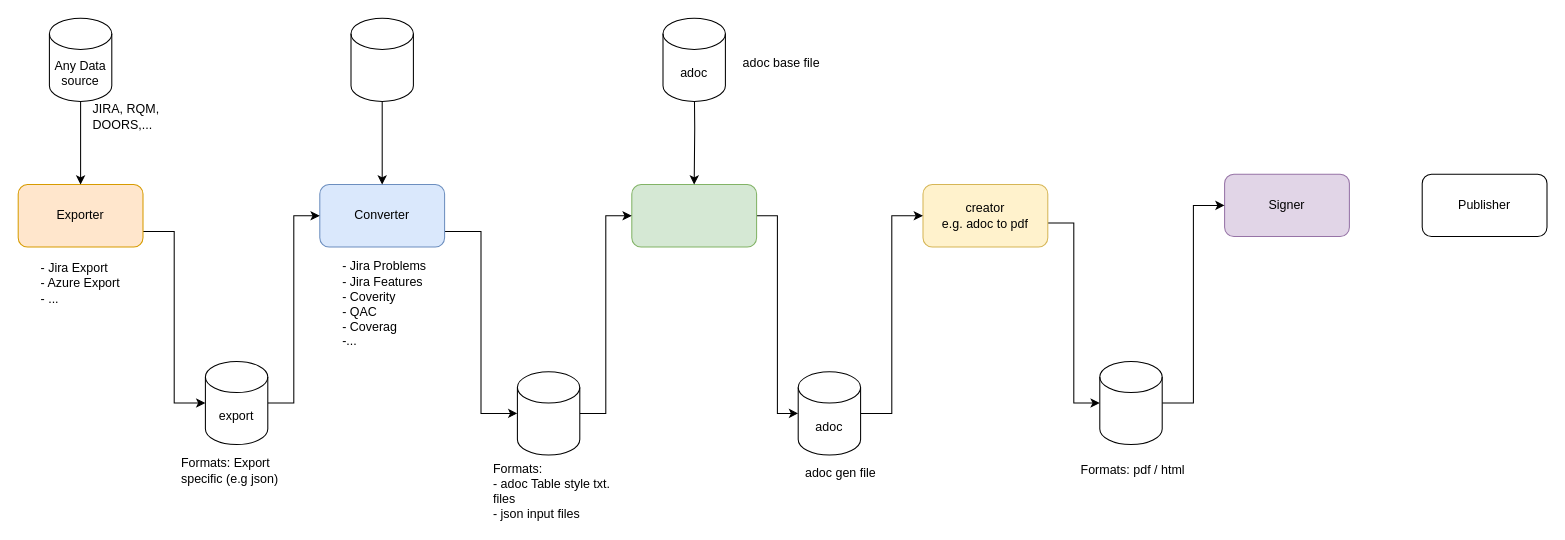
Image size: 1565x540. Some labels were removed from this diagram. The shapes that lost their labels are listed below. From the top down, each one's centre as x and y in pixels, then its label:
point (381, 59): build data
point (694, 215): compiler e.g. adoc
point (548, 413): inputs
point (1130, 402): output
